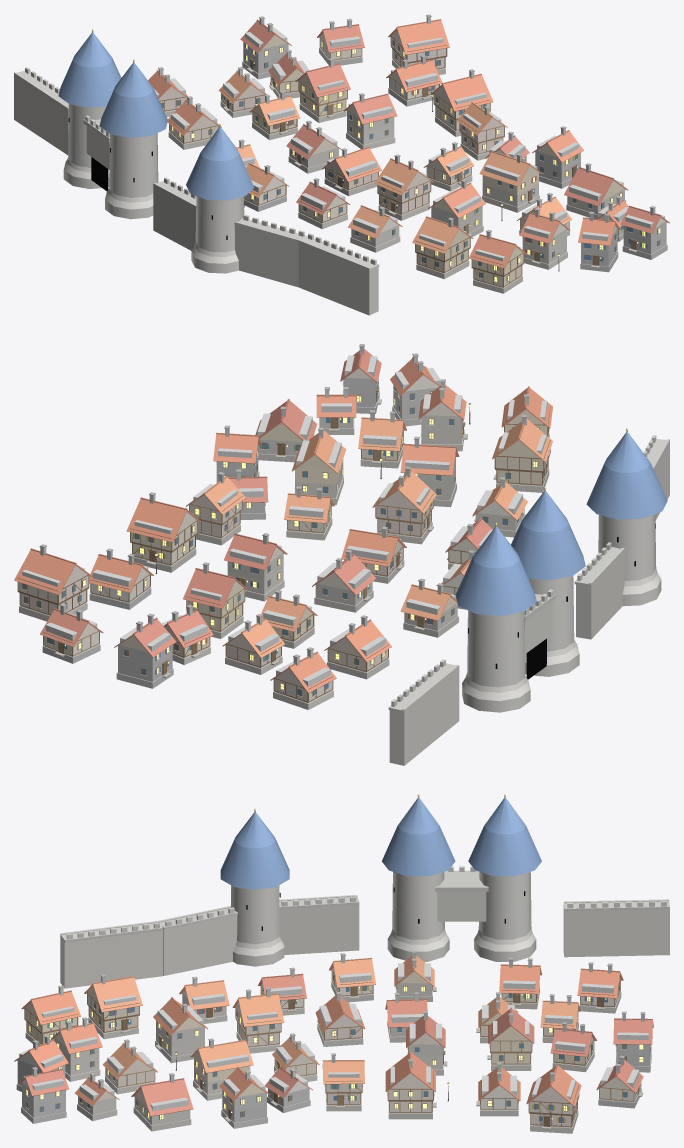
Rendered from struct_6_8.glb.
3 views of the same model, one above another, from view 1: azimuth 30°, elevation 25°; view 2: azimuth 150°, elevation 25°; view 3: azimuth 270°, elevation 25° (orthographic). The views are drawn at different scales.
Visible parts, largest first — view 1: HousesNear, Landmarks, Occluder-occonly, HousesFar; view 2: HousesNear, Landmarks, Occluder-occonly, HousesFar; view 3: HousesNear, Landmarks, Occluder-occonly, HousesFar.
Part boxes in pixels (left/top/right/bottom): HousesNear: left=148, top=14, right=669, bottom=293; Landmarks: left=14, top=29, right=559, bottom=315; Occluder-occonly: left=154, top=26, right=664, bottom=261; HousesFar: left=164, top=21, right=630, bottom=261; HousesNear: left=14, top=344, right=552, bottom=709; Landmarks: left=155, top=403, right=669, bottom=765; Occluder-occonly: left=22, top=355, right=547, bottom=686; HousesFar: left=64, top=361, right=445, bottom=666; HousesNear: left=14, top=953, right=653, bottom=1133; Landmarks: left=60, top=794, right=669, bottom=1101; Occluder-occonly: left=19, top=963, right=648, bottom=1111; HousesFar: left=44, top=950, right=639, bottom=1121.
Size of the model in its own units: 99.93 by 35.06 by 134.
